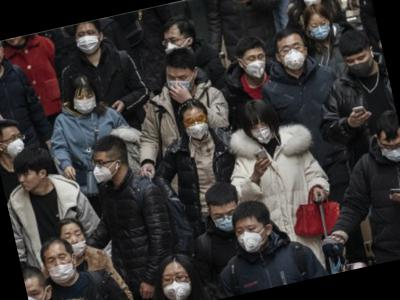mask_weared_incorrect: (61, 225, 90, 262)
with_mask: (233, 219, 270, 258), (44, 248, 79, 289), (208, 204, 243, 238), (159, 267, 193, 300), (163, 67, 196, 100), (278, 38, 308, 73), (181, 111, 212, 144), (72, 26, 103, 58), (241, 49, 272, 81), (345, 50, 377, 81), (88, 153, 116, 185), (1, 129, 28, 161), (71, 89, 100, 118), (159, 31, 189, 59), (249, 117, 276, 147), (377, 135, 400, 166), (26, 282, 51, 300)
without_mask: (15, 165, 40, 195)
